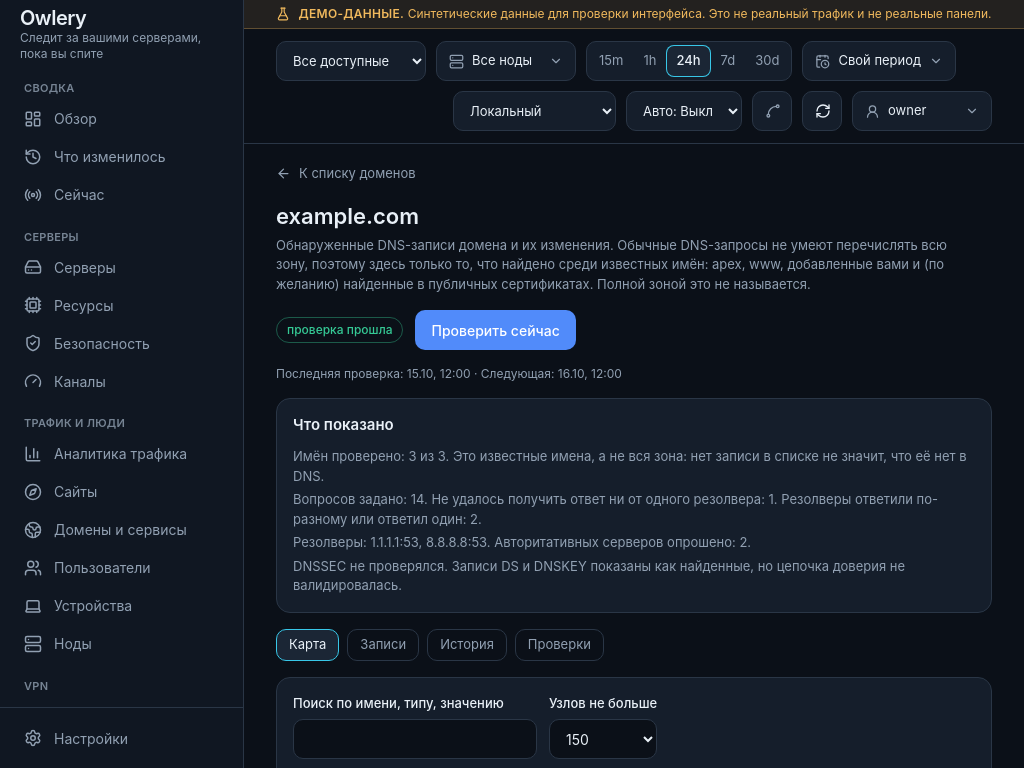
it: DNS Map › shows records with who said what, and marks an unconfirmed or vanished one
This screenshot has width=1024, height=768.
Step 1. Click the tab "Записи" → (383, 644), box [347,628,419,660]
(page scrolled)
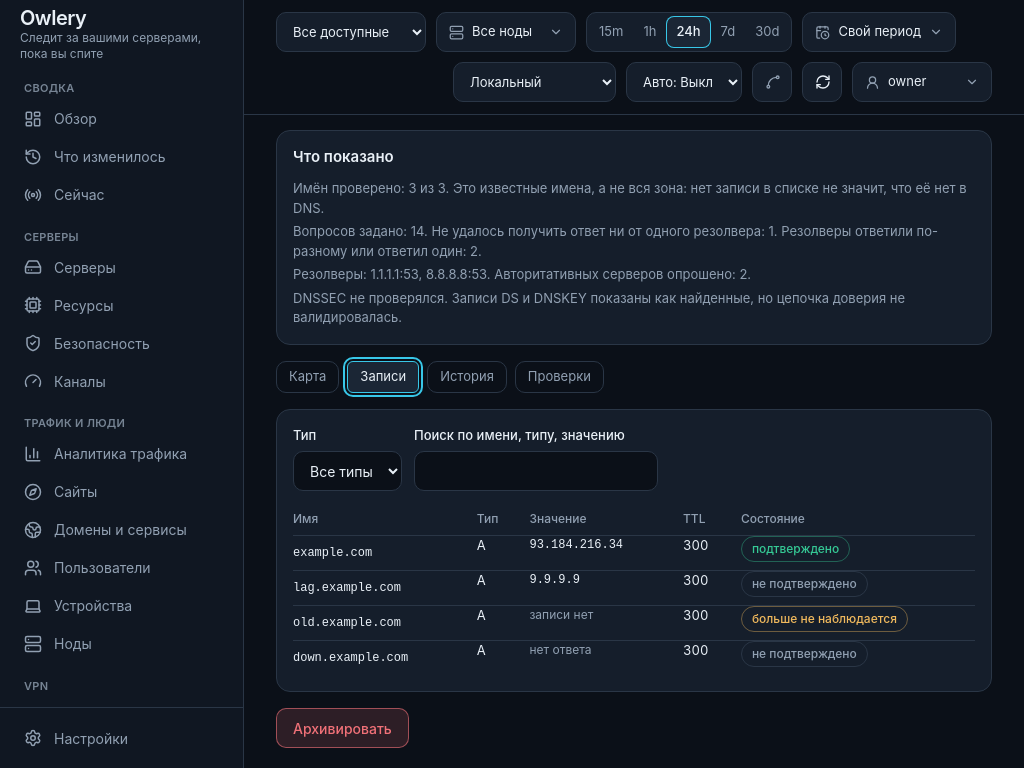
Expected: the button "lag.example.com" is shown
Expected: the text "подтверждено" is shown, [741,536,850,562]
Expected: the text "не подтверждено" is shown 2 times, [741,571,868,597]; [741,641,868,667]
Step 2. Click the button "lag.example.com" → (347, 588), box [293,579,401,597]
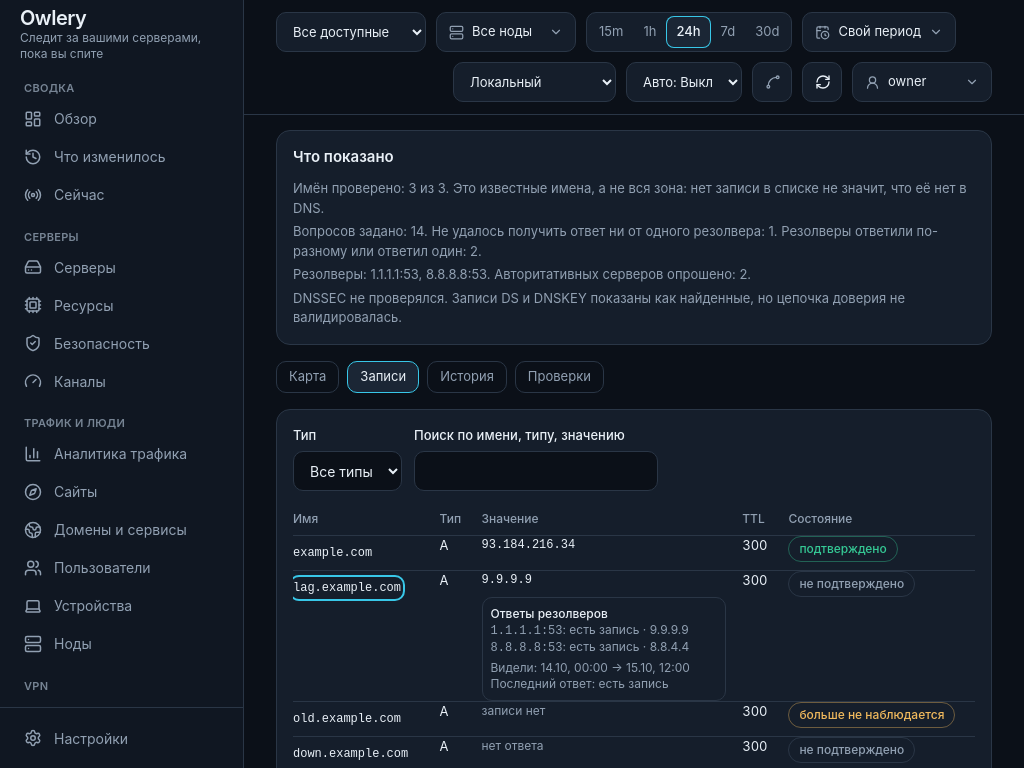
Expected: the element showing "8.8.8.8:53: есть запись · 8.8.4.4" is shown, [490,639,717,656]
